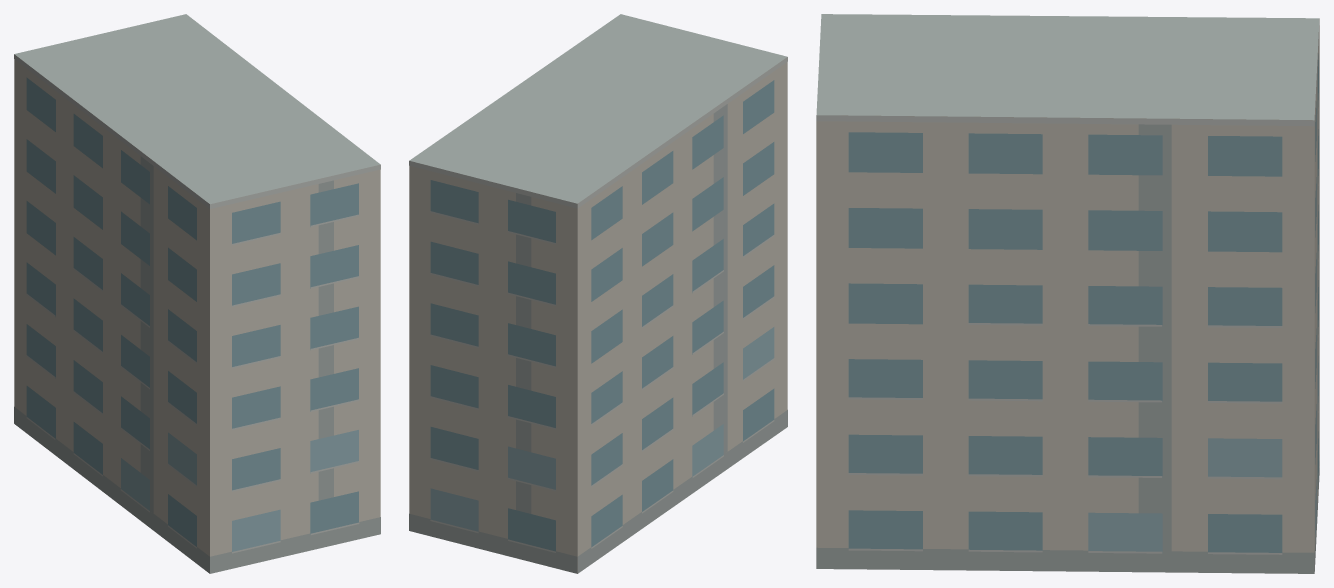
File: survey-upis-32927405.glb
3 views of the same model, side by side, from view 1: azimuth 30°, elevation 25°; view 2: azimuth 150°, elevation 25°; view 3: azimuth 270°, elevation 25° (orthographic). The views are drawn at different scales.
Parts seen in each view (by area): view 1: survey-upis-32927405.tmp; view 2: survey-upis-32927405.tmp; view 3: survey-upis-32927405.tmp.
Boxes of the visible parts, box(x1,y1,x2,y2) form: survey-upis-32927405.tmp: box(14, 14, 380, 573); survey-upis-32927405.tmp: box(409, 14, 787, 573); survey-upis-32927405.tmp: box(816, 14, 1319, 573).
Size of the model in its own units: 9.19 by 18.3 by 18.4.
